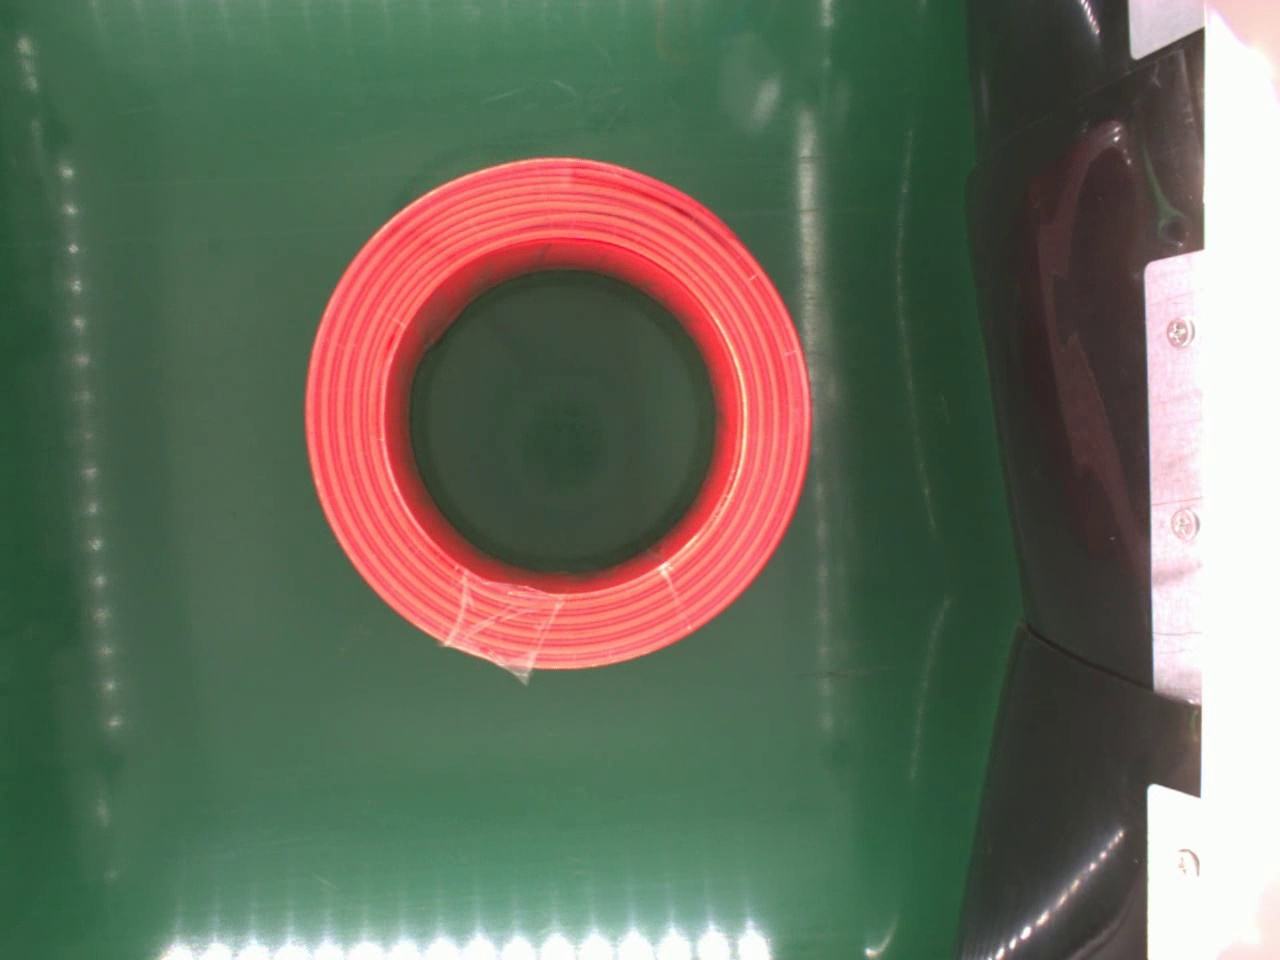red: (301, 156, 809, 673)
